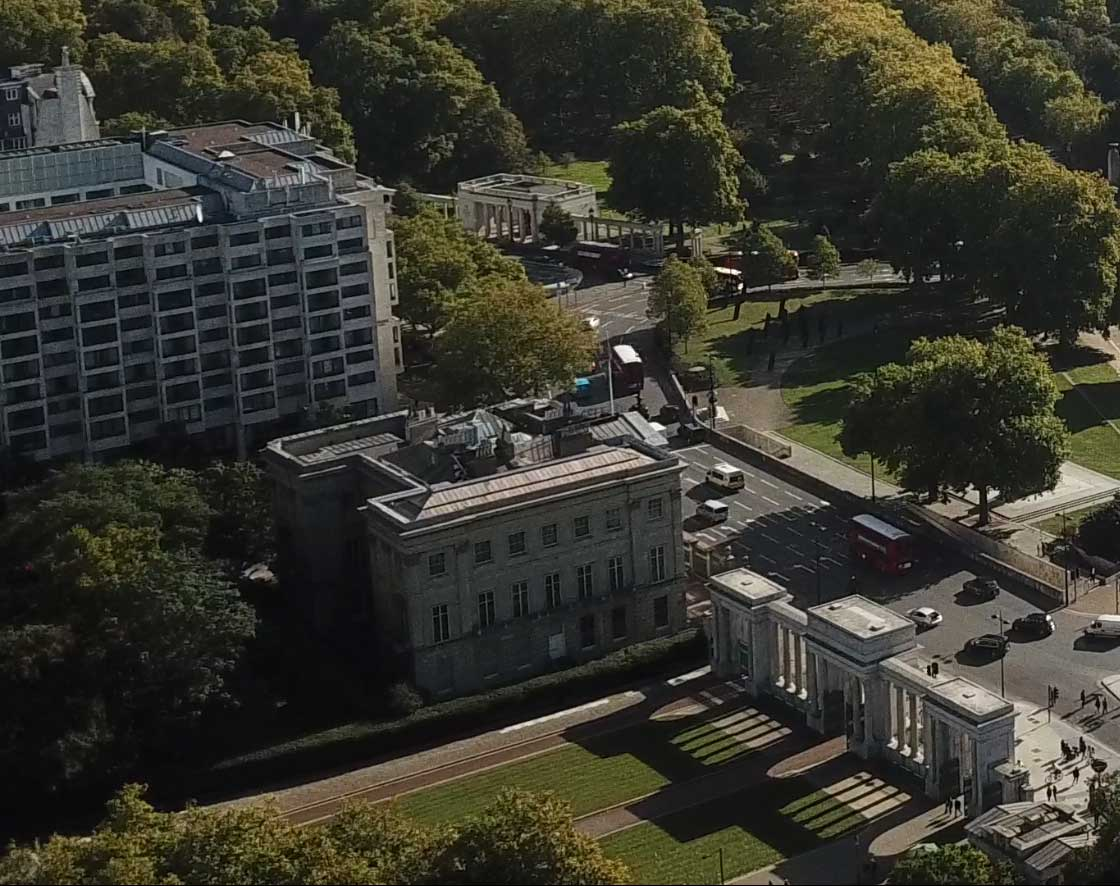building: (1, 105, 416, 466), (251, 417, 694, 701)
bus: (839, 516, 913, 591)
car: (1013, 610, 1061, 645), (708, 459, 748, 499), (956, 572, 1004, 605)
tree: (842, 335, 1070, 535), (443, 272, 610, 410)
trees: (602, 2, 1118, 237), (2, 469, 243, 750)
